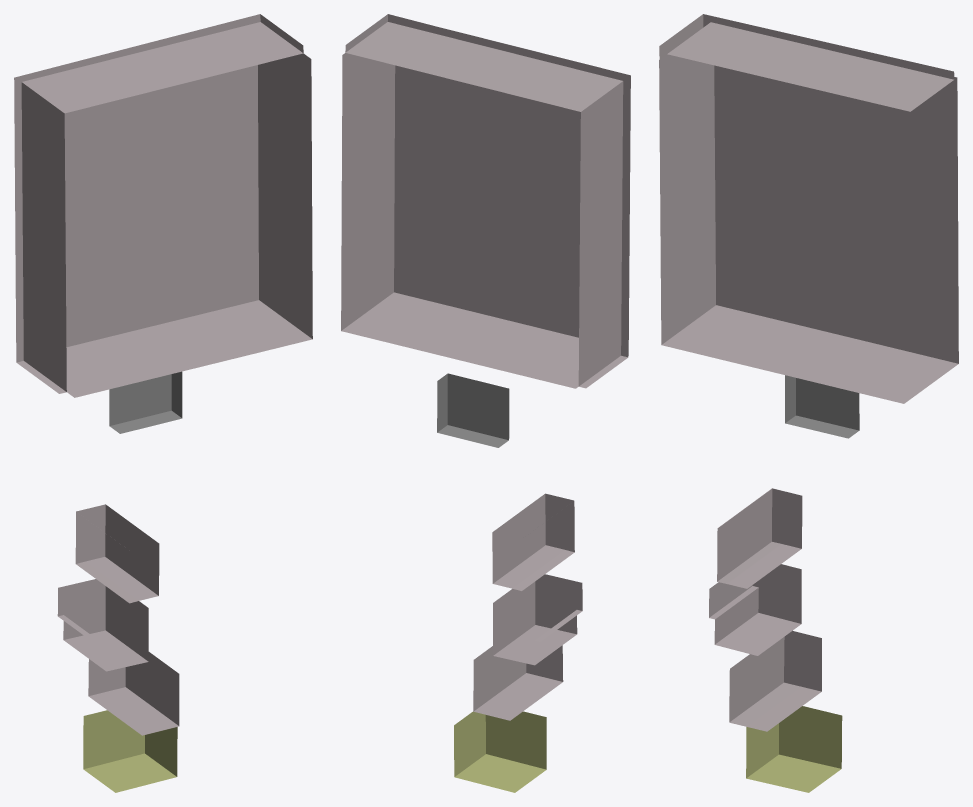
3 views of the same model, side by side, from view 1: azimuth 30°, elevation 25°; view 2: azimuth 150°, elevation 25°; view 3: azimuth 330°, elevation 25° (orthographic). The views are drawn at different scales.
Visible parts, largest first — view 1: 0_2_2_0_0_0_1; view 2: 0_2_2_0_0_0_1; view 3: 0_2_2_0_0_0_1.
Boxes of the visible parts, box(x1,y1,x2,y2) form: 0_2_2_0_0_0_1: box(14, 14, 312, 792); 0_2_2_0_0_0_1: box(341, 14, 630, 792); 0_2_2_0_0_0_1: box(659, 14, 958, 792).
Bounding box in the file's own units: 39.92 × 110 × 15.14.
